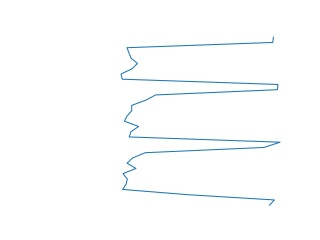majorRiverChannelBar: (116, 36, 289, 205)
